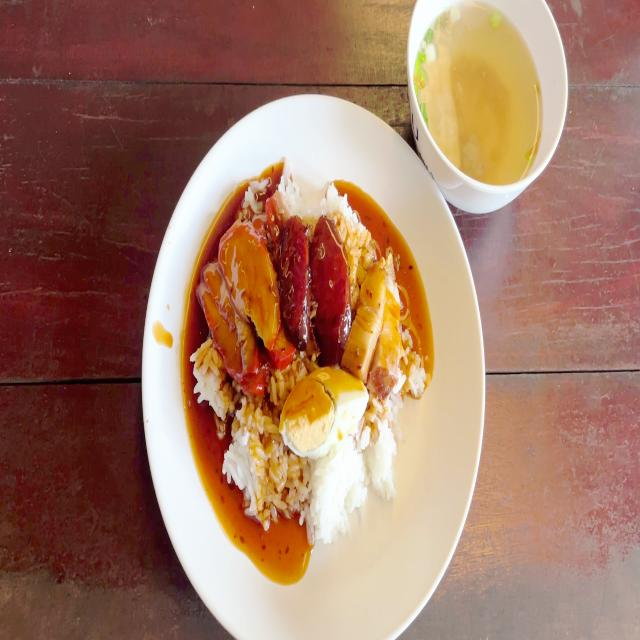boiled_egg: (282, 368, 366, 452)
chainese_sausage: (274, 209, 352, 359), (310, 213, 353, 350), (278, 212, 309, 345)
crispy_pork: (351, 254, 402, 402), (348, 266, 388, 374), (382, 249, 400, 401)
red_pork: (201, 224, 290, 390), (215, 223, 288, 352), (198, 266, 270, 395), (270, 334, 294, 372)
red_pork_and_crispy_pork: (197, 163, 416, 534)
rice: (226, 419, 281, 506), (309, 451, 368, 532), (317, 182, 363, 224), (370, 426, 394, 494), (283, 164, 300, 211)
